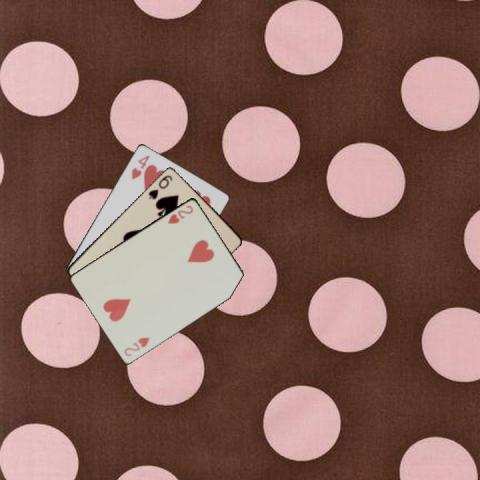2h: (164, 202, 194, 225), (121, 334, 151, 357)
4h: (128, 152, 151, 181)
6s: (145, 172, 174, 201)
